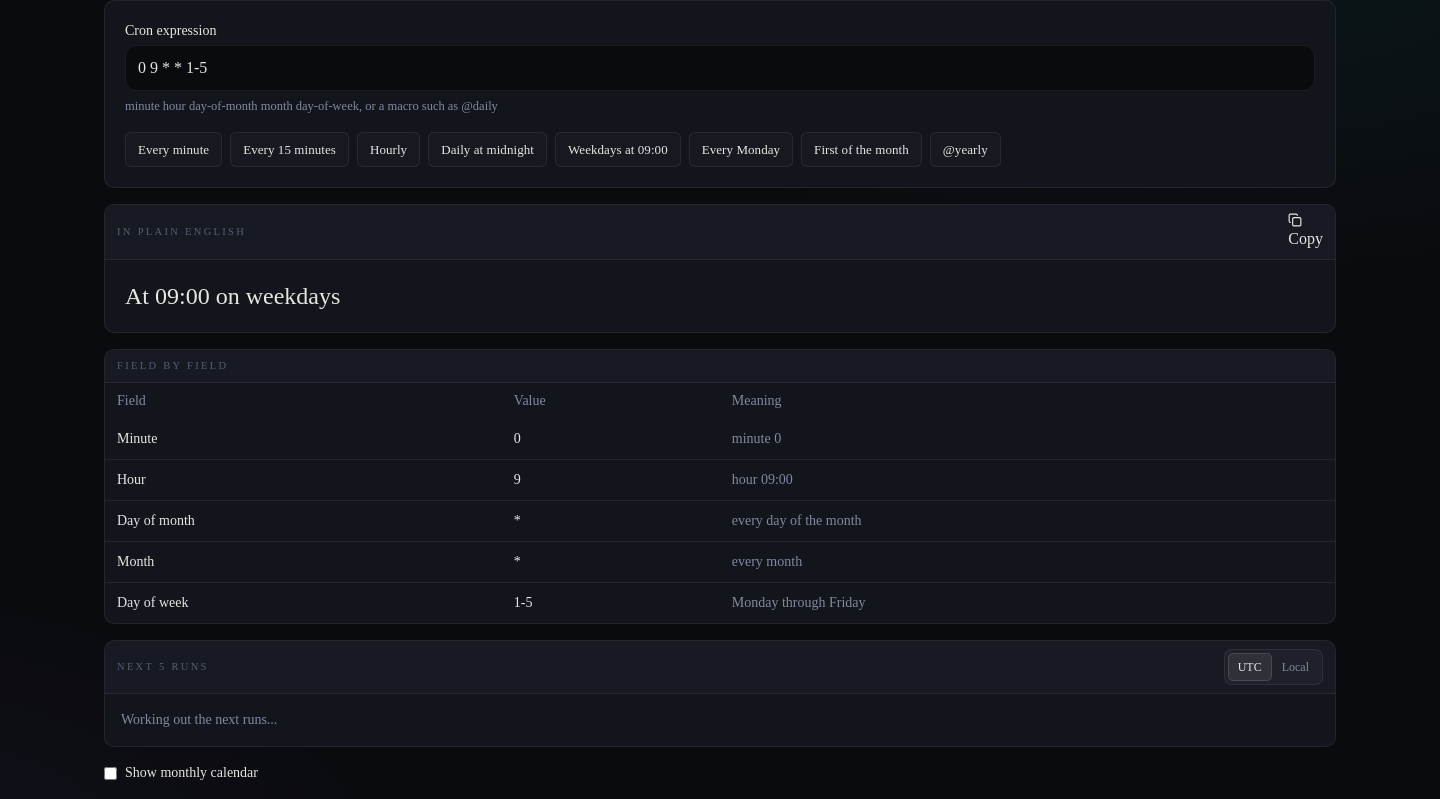
Test: CronExplainerClient › errors › clears the error once the expression is fixed
Replace the text in the field labelled "Cron expression" with "60 * * * *". click: point(720, 68)
box: [125, 45, 1315, 91]
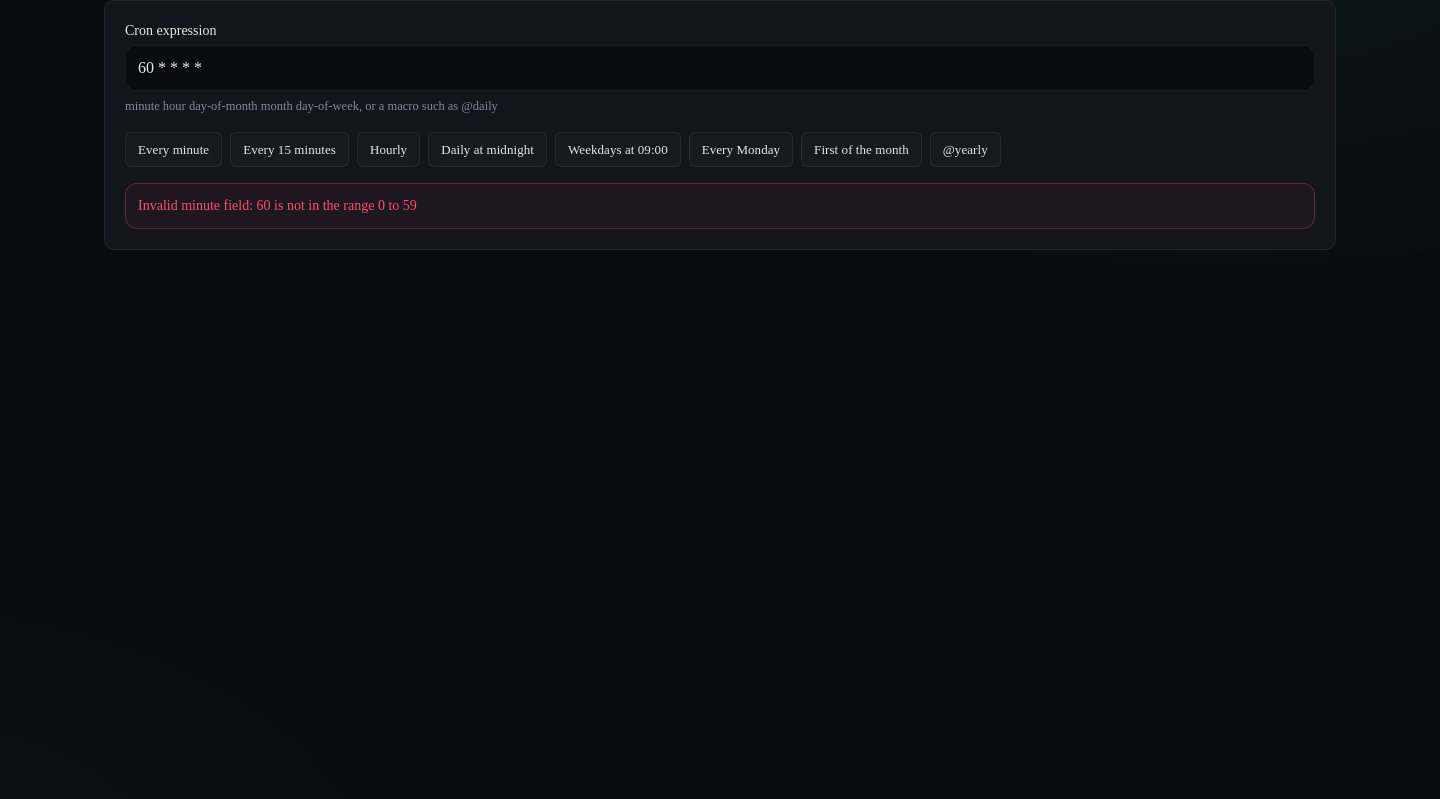
Expected: the message "Invalid minute field: 60 is not in the range 0 to 59" is shown, [125, 183, 1315, 229]
Replace the text in the field labelled "Cron expression" with "0 * * * *". click: point(720, 68)
box: [125, 45, 1315, 91]
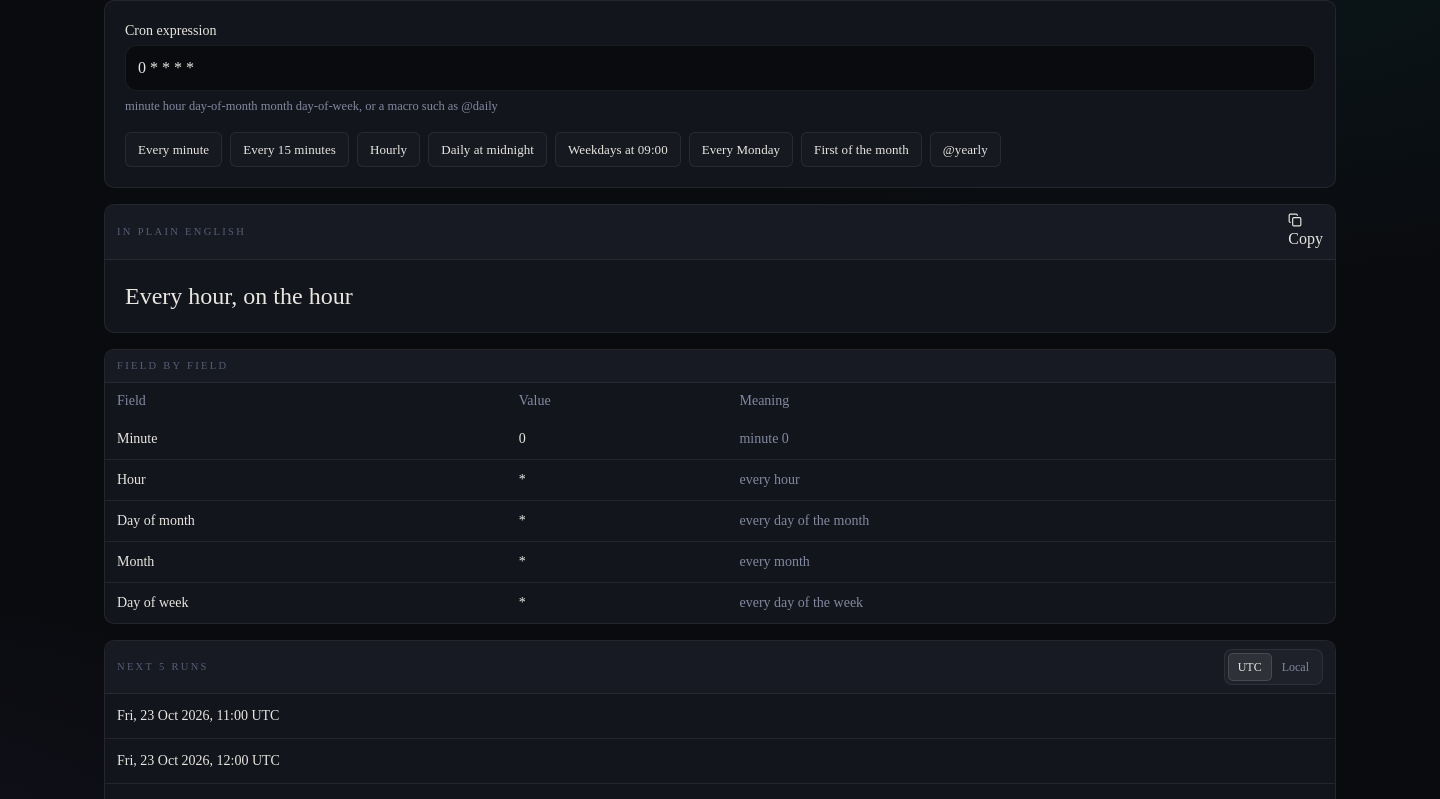
Expected: the message "Invalid minute field: 60 is not in the range 0 to 59" is gone
Expected: the text "Every hour, on the hour" is shown, [125, 283, 353, 309]
